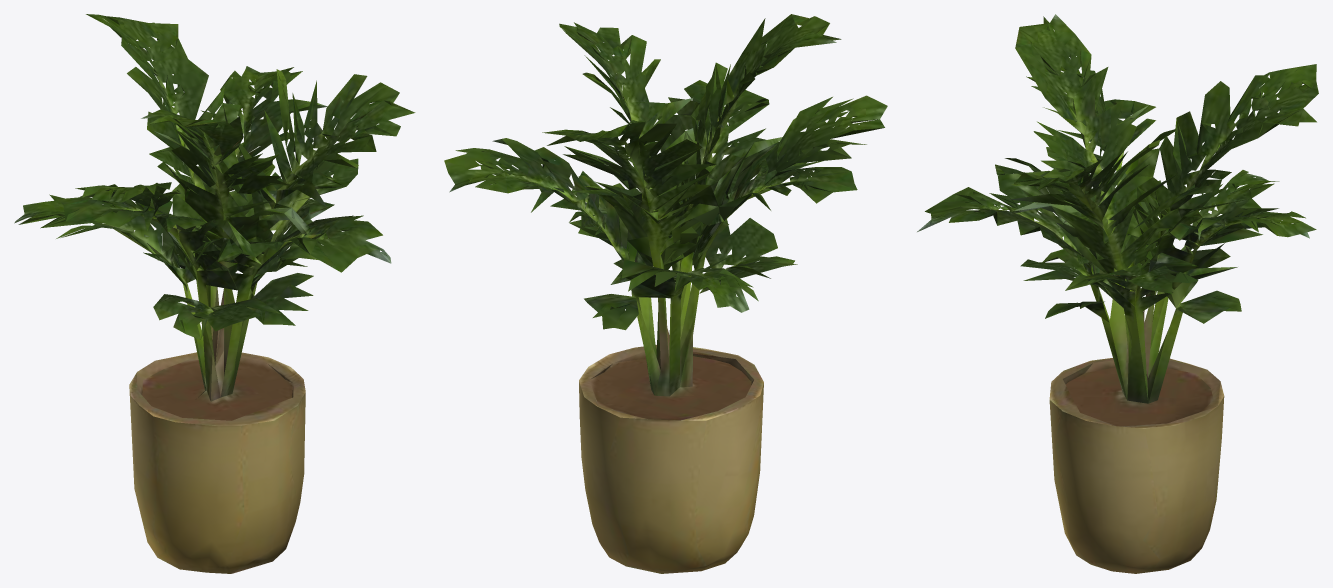
File: palm.glb
The picture shows the model from 3 angles, left to right: view 1: azimuth 30°, elevation 25°; view 2: azimuth 150°, elevation 25°; view 3: azimuth 270°, elevation 25°; orthographic projection. The views are drawn at different scales.
Parts seen in each view (by area): view 1: palm; view 2: palm; view 3: palm.
Part boxes in pixels (<box>): palm: <box>14,14,415,573</box>; palm: <box>444,14,887,573</box>; palm: <box>917,14,1318,573</box>.
Size of the model in its own units: 1.03 by 1.5 by 1.13.
Materials: 1 (1 with a texture image).
